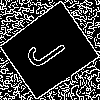J: (24, 25, 76, 73)
